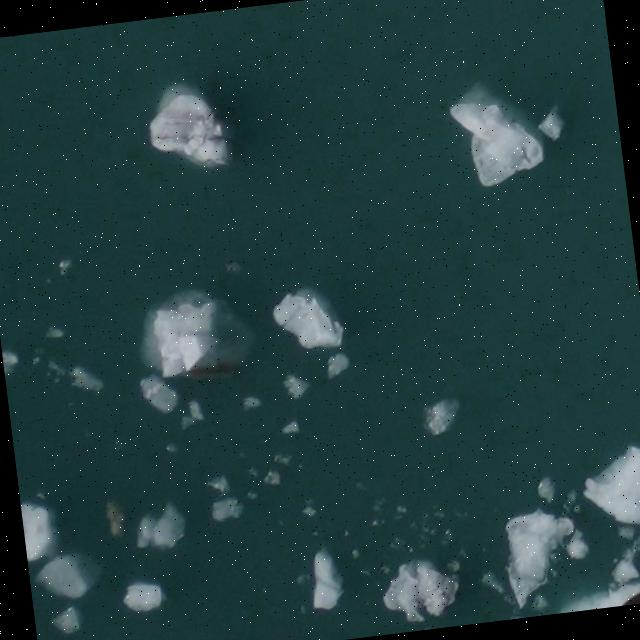seal: (620, 589, 640, 606)
